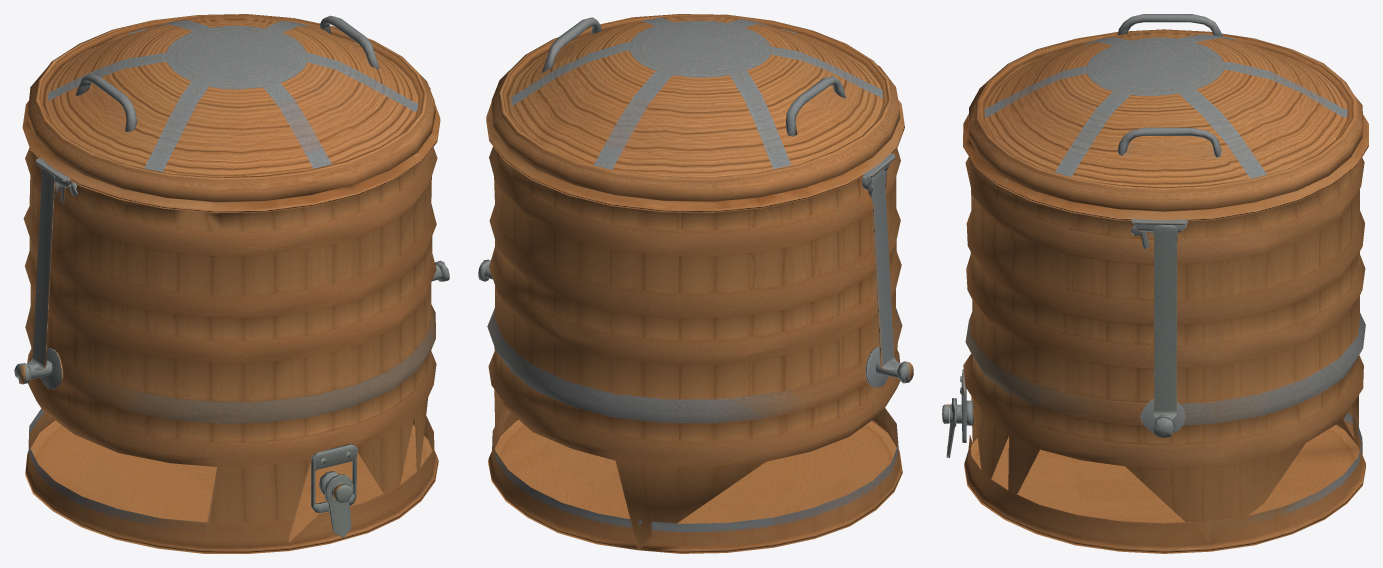
Rendered from feed_bin.glb.
3 renders of one model, left to right at view 1: azimuth 30°, elevation 25°; view 2: azimuth 150°, elevation 25°; view 3: azimuth 270°, elevation 25°, orthographic. The views are drawn at different scales.
Visible parts, largest first — view 1: feed_bin; view 2: feed_bin; view 3: feed_bin.
Part boxes in pixels (x1,y1,x2,y2): feed_bin: (14,14,449,553); feed_bin: (478,14,913,553); feed_bin: (942,14,1368,553).
Size of the model in its own units: 0.9084 by 0.85 by 0.8117.
1 material, 1 textured.
